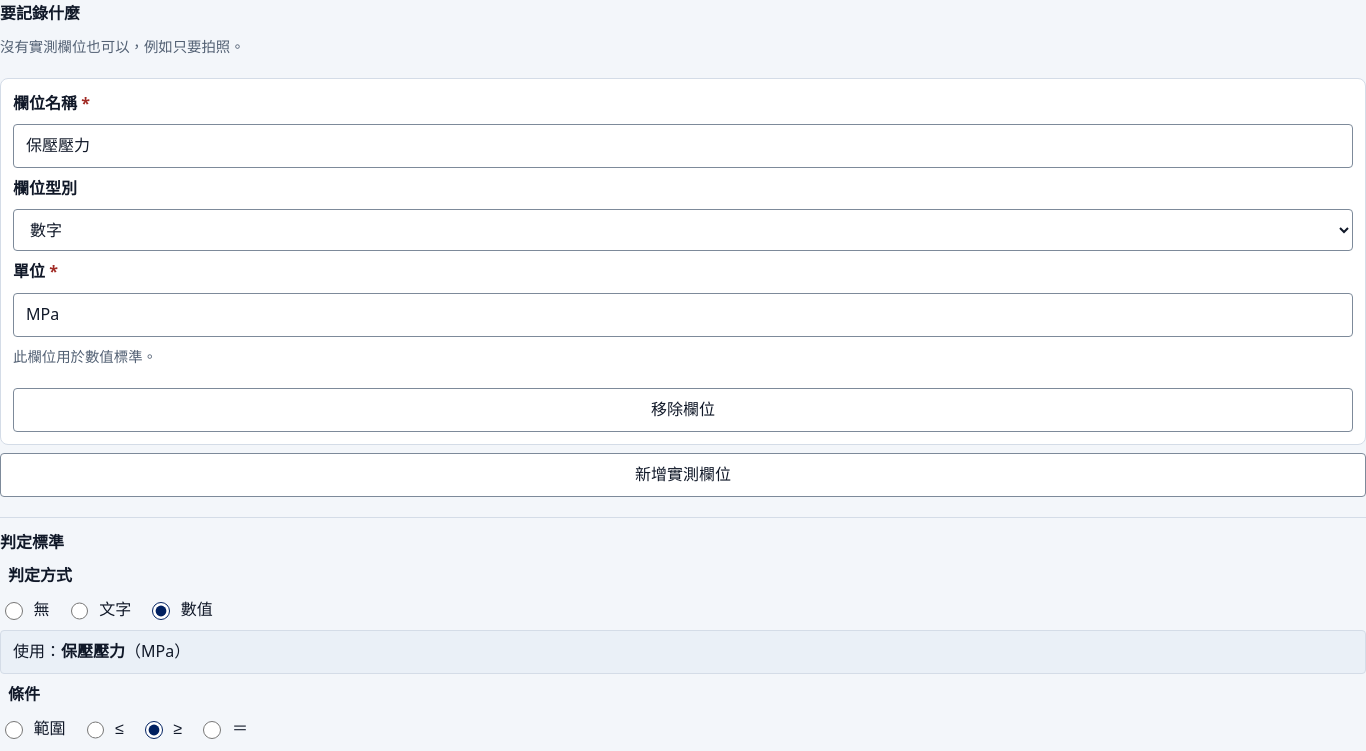
Scenario: 綁定欄位不顯示殘留確認，捷徑聚焦判定標準
Click the button "移除欄位": {"x": 683, "y": 410} [13,388,1353,432]
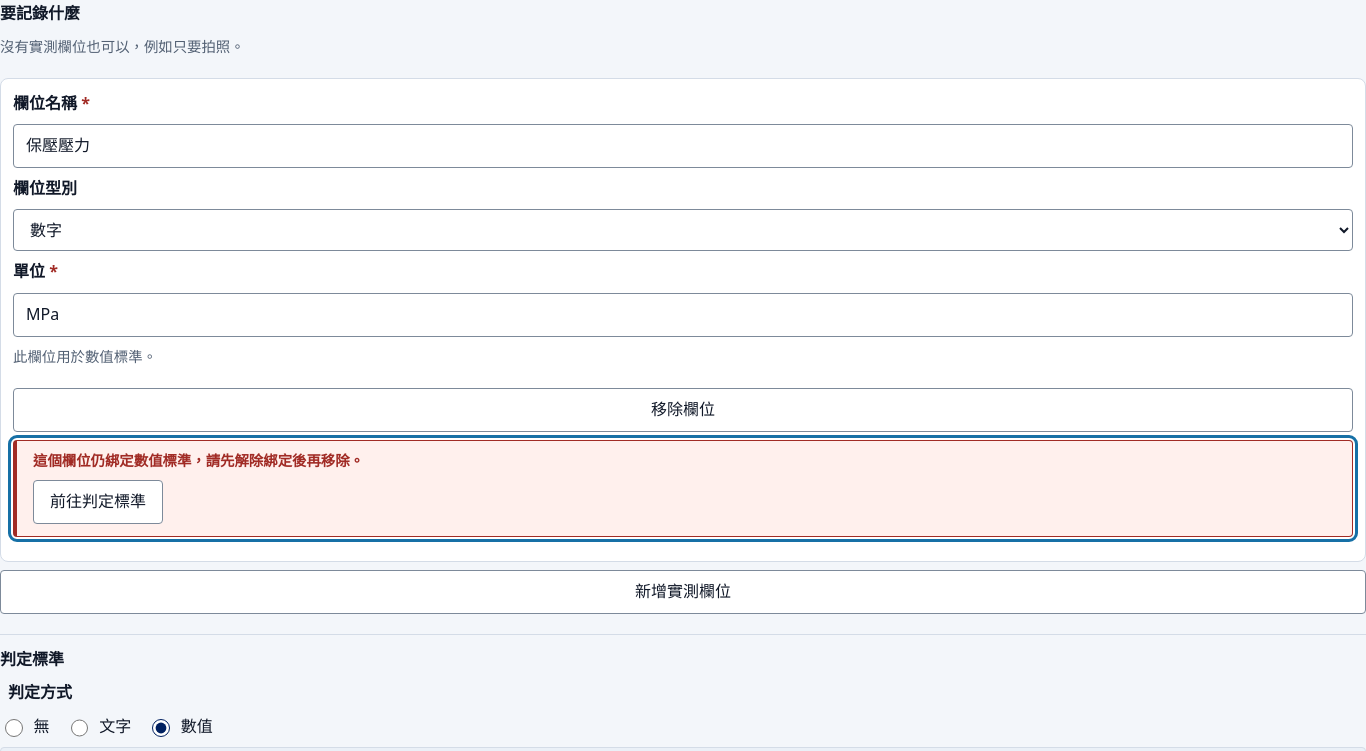
Click the button "前往判定標準": {"x": 98, "y": 502} [33,480,163,524]
(page scrolled)
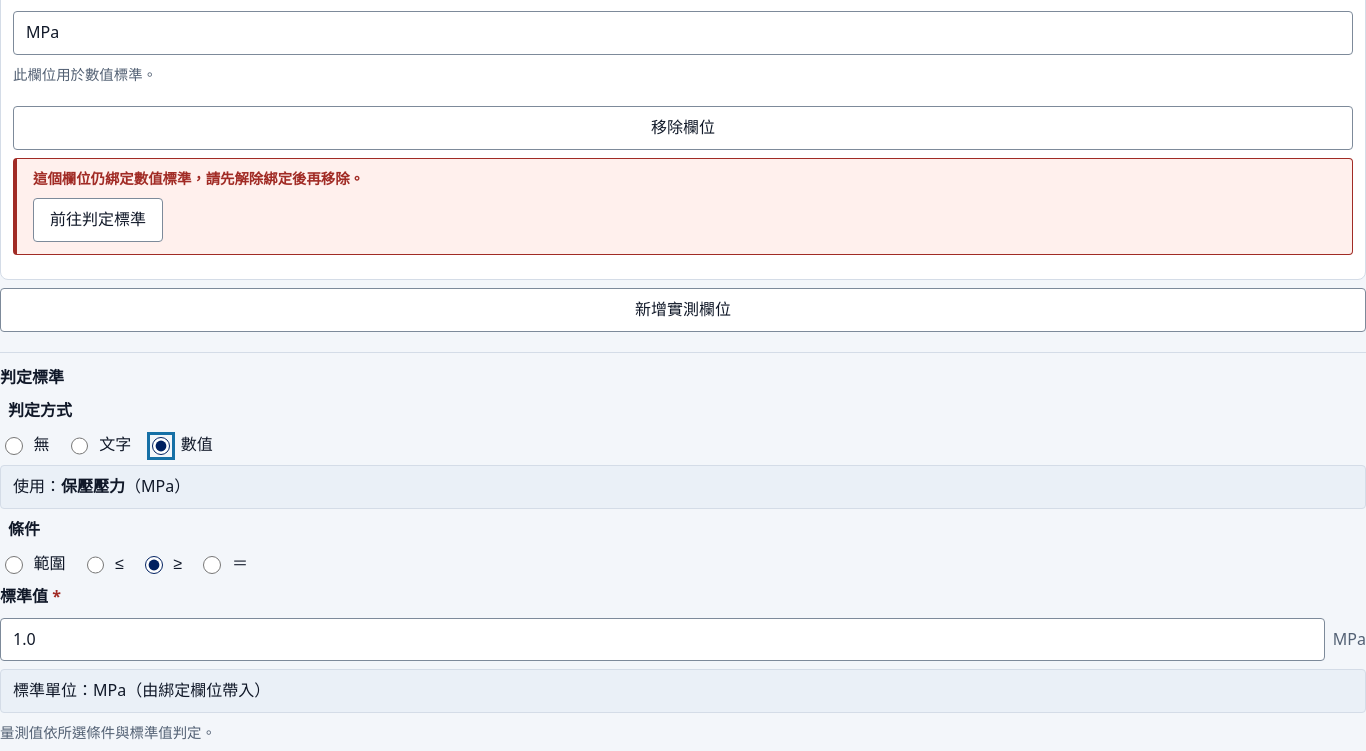
expect the radio button labelled "數值" is checked: met, box [152,437,170,455]
Click the radio button labelled "無": {"x": 14, "y": 446} [5,437,23,455]
(page scrolled)
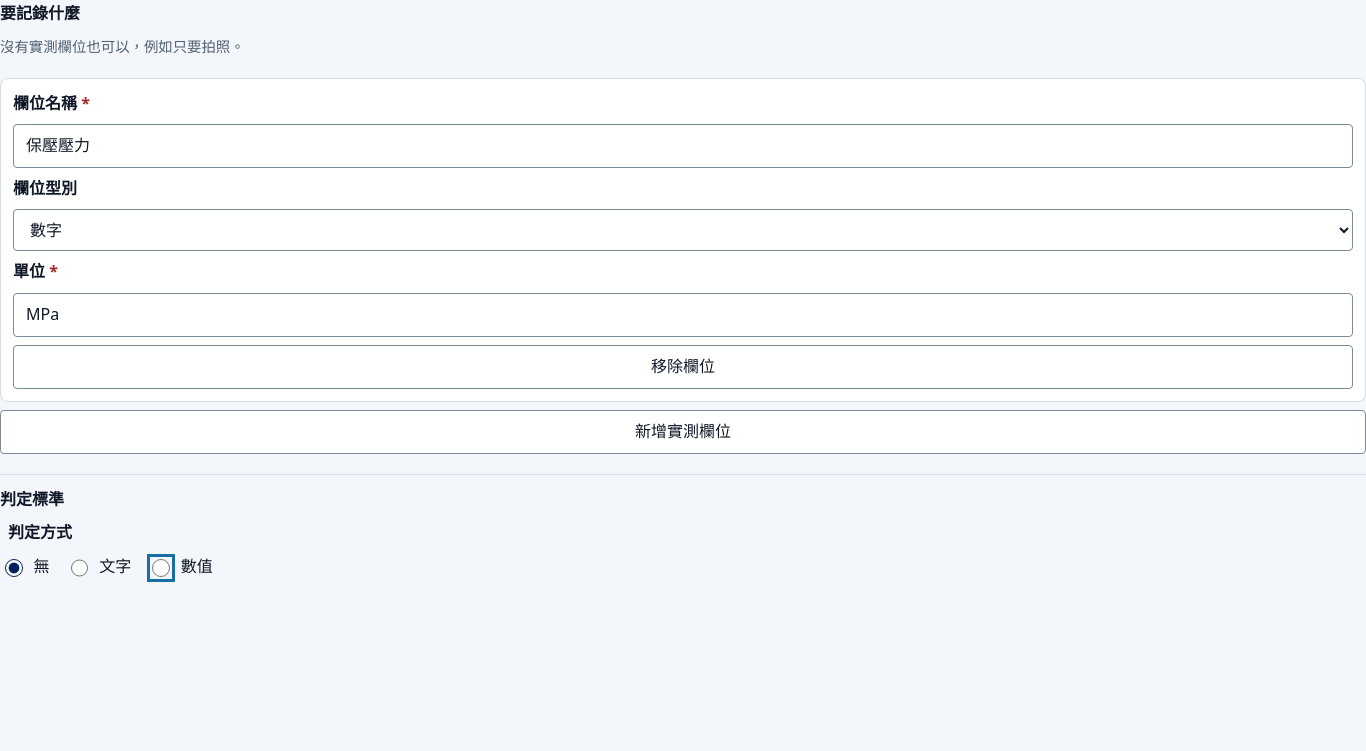
Click the button "移除欄位": {"x": 683, "y": 367} [13,345,1353,389]
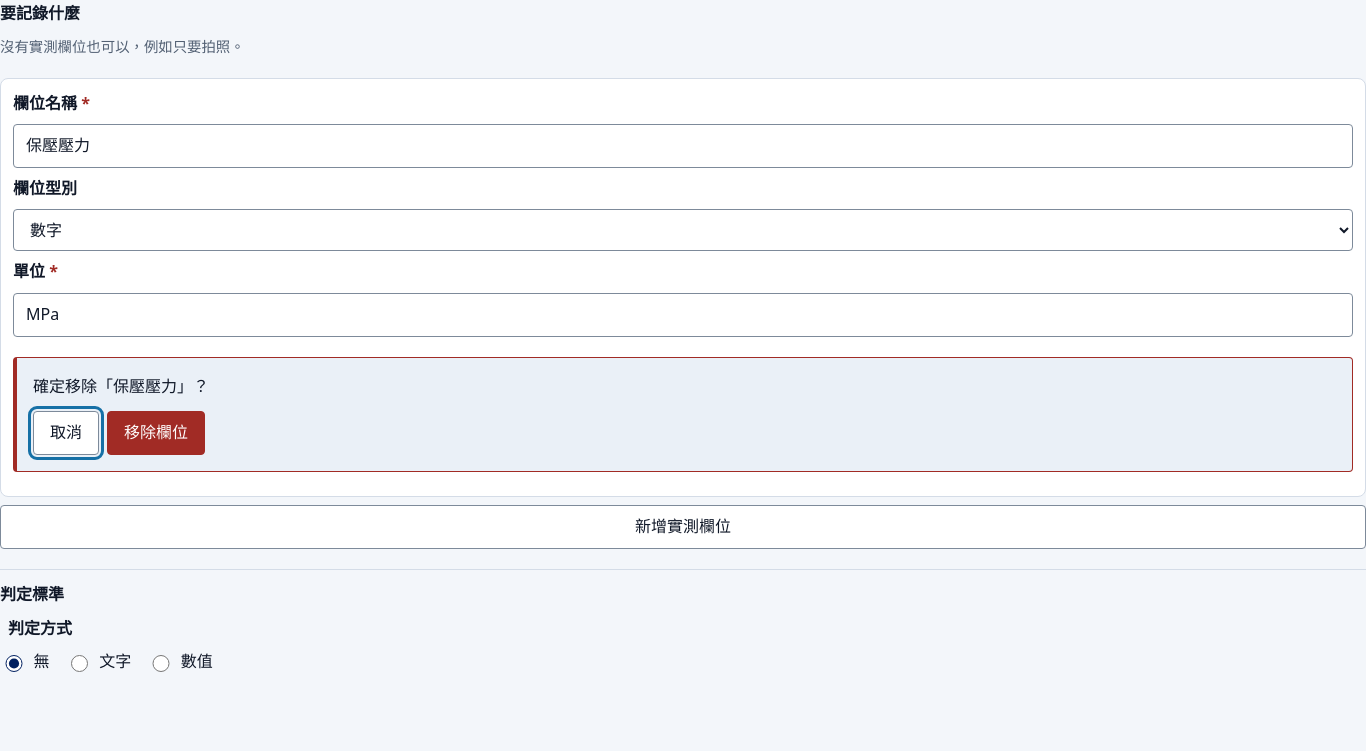
expect the text "這個欄位仍綁定數值標準" is not shown: met
expect the element named "移除欄位確認" is shown: met, box [13,357,1353,472]
